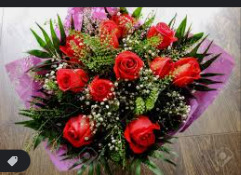RedRose: (119, 114, 160, 156), (169, 56, 205, 91), (63, 114, 102, 145), (108, 49, 145, 80), (54, 65, 89, 95)
